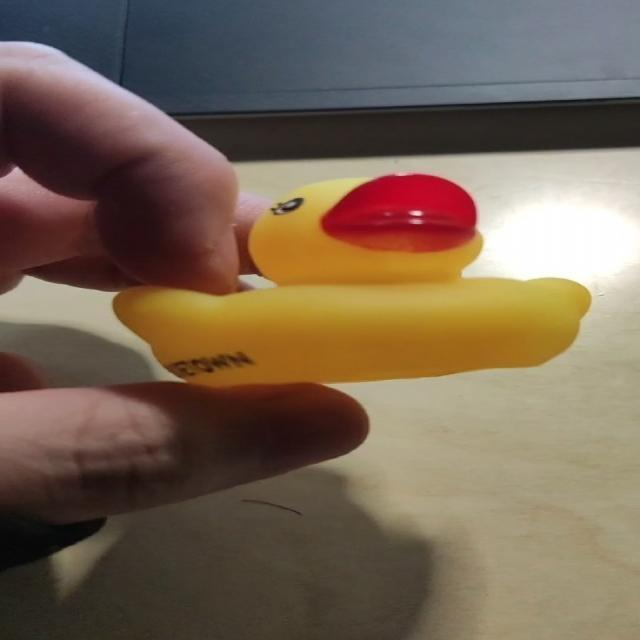rubber-duck: (112, 172, 589, 384)
